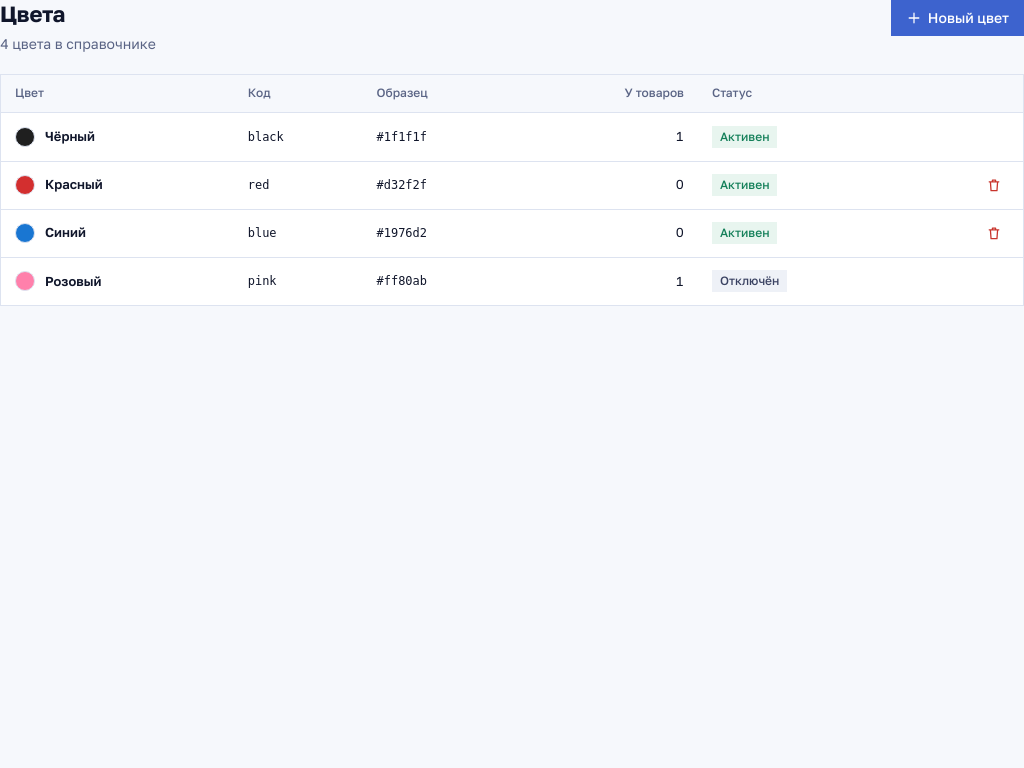
Test case: справочник цветов › создание: код идёт за названием, образец строкой
Expected: the text "black" is shown, [248,130,284,144]
Click the button "Новый цвет".
click(957, 18)  # box [891,0,1023,36]
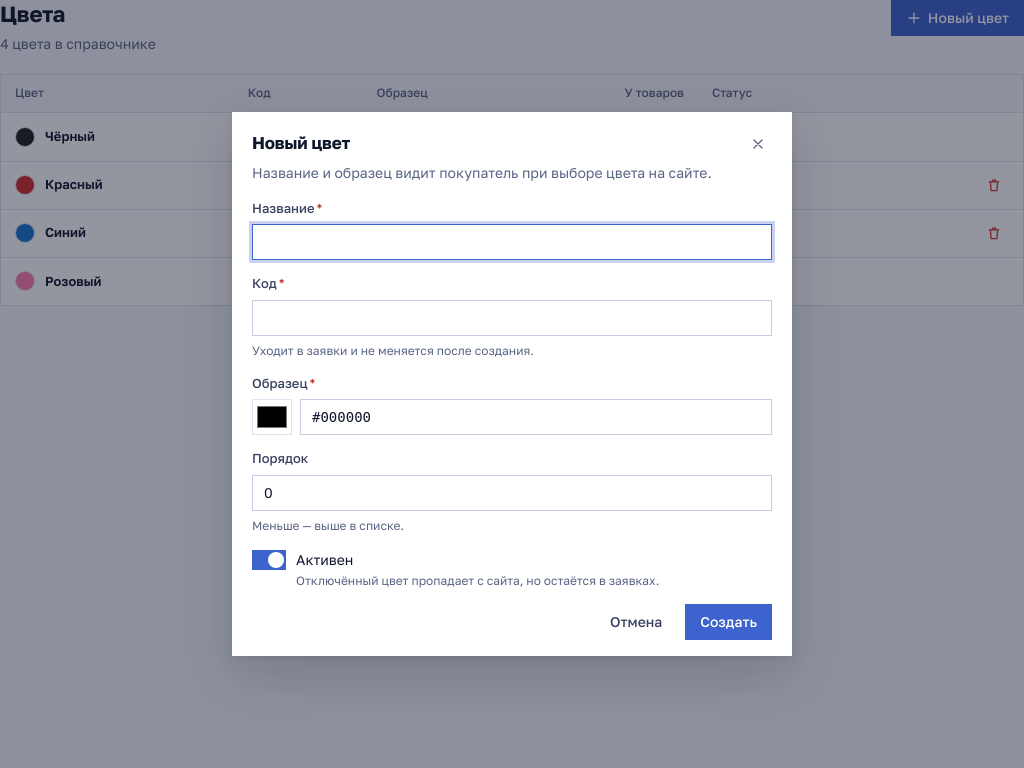
Type "Оранжевый" into the field labelled "Название*".
click(512, 242); type("Оранжевый")  # box [252,224,772,260]
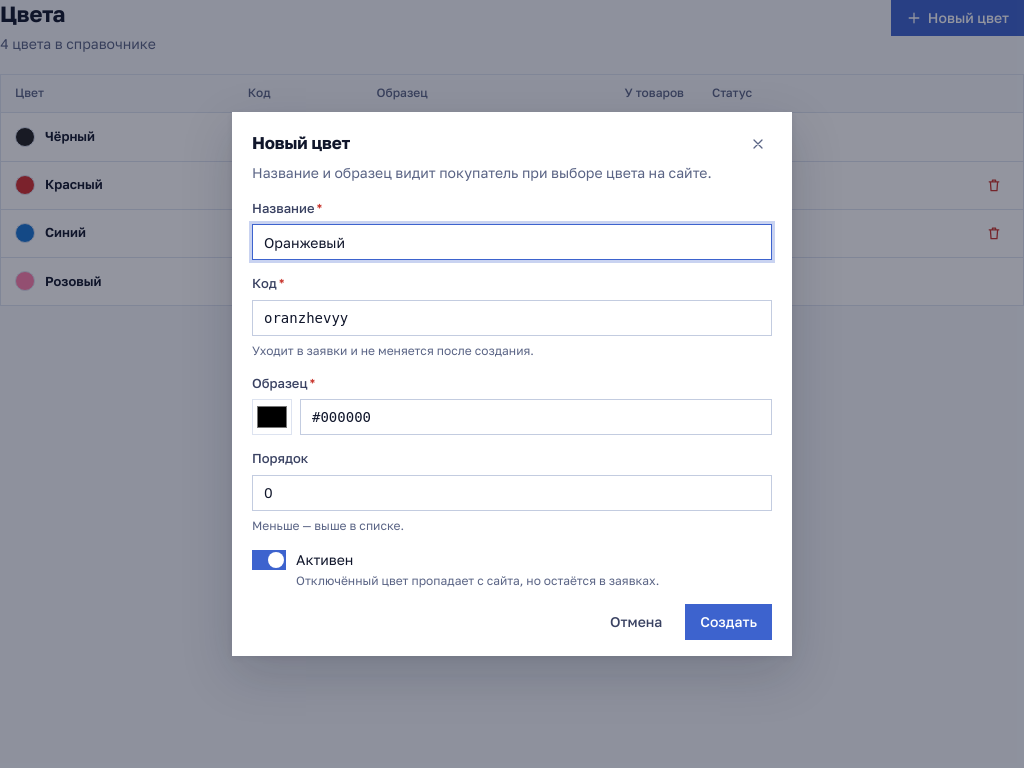
Expected: the field labelled "Код*" holds "oranzhevyy", [252,300,772,336]
Replace the text in the field named "Образец, #RRGGBB" with "#F57C00" at point(536, 417), box [300,399,772,435]
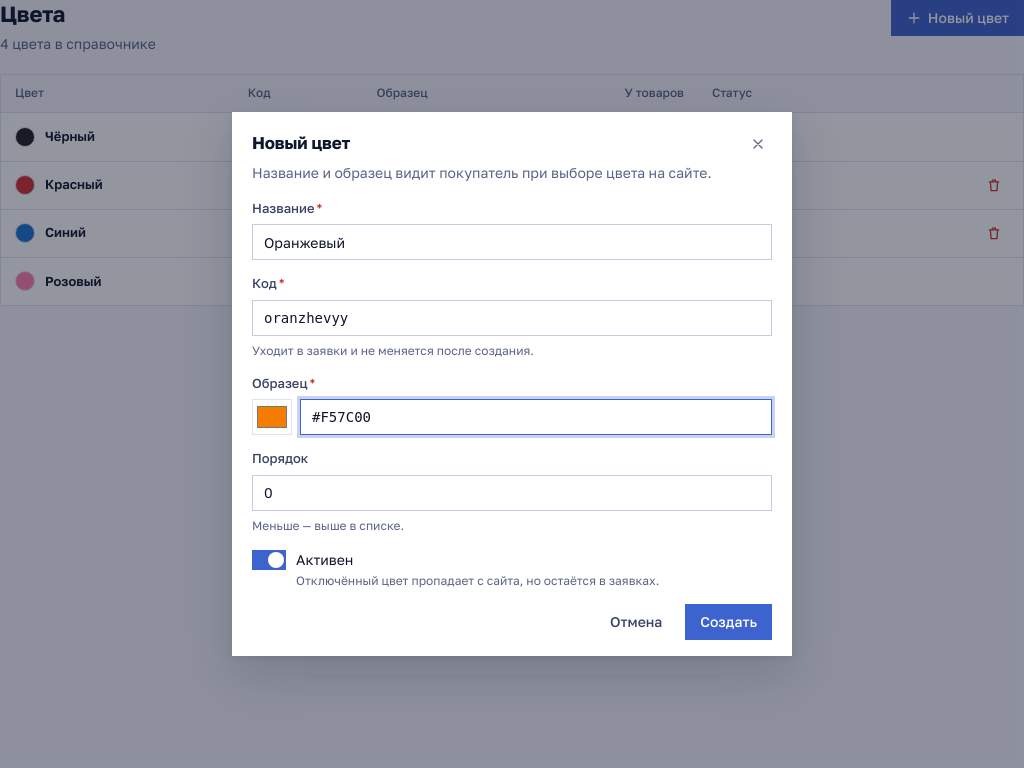
Click the button "Создать".
click(729, 622)  # box [685,604,772,640]
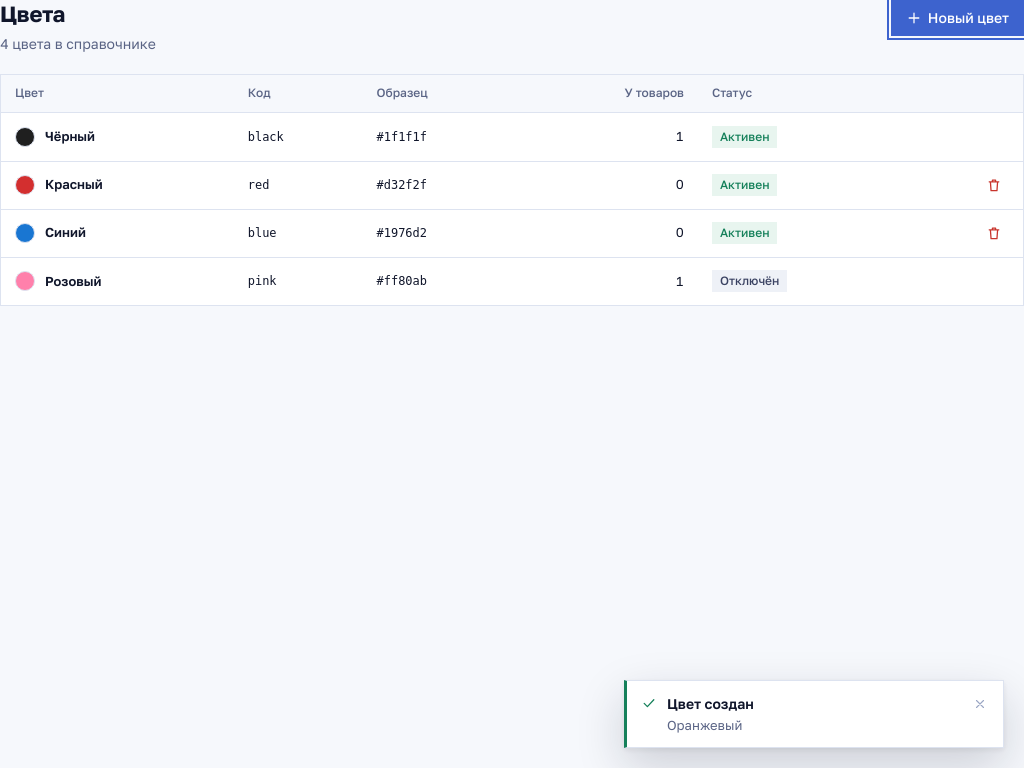
Expected: the text "Цвет создан" is shown, [667,694,754,712]
